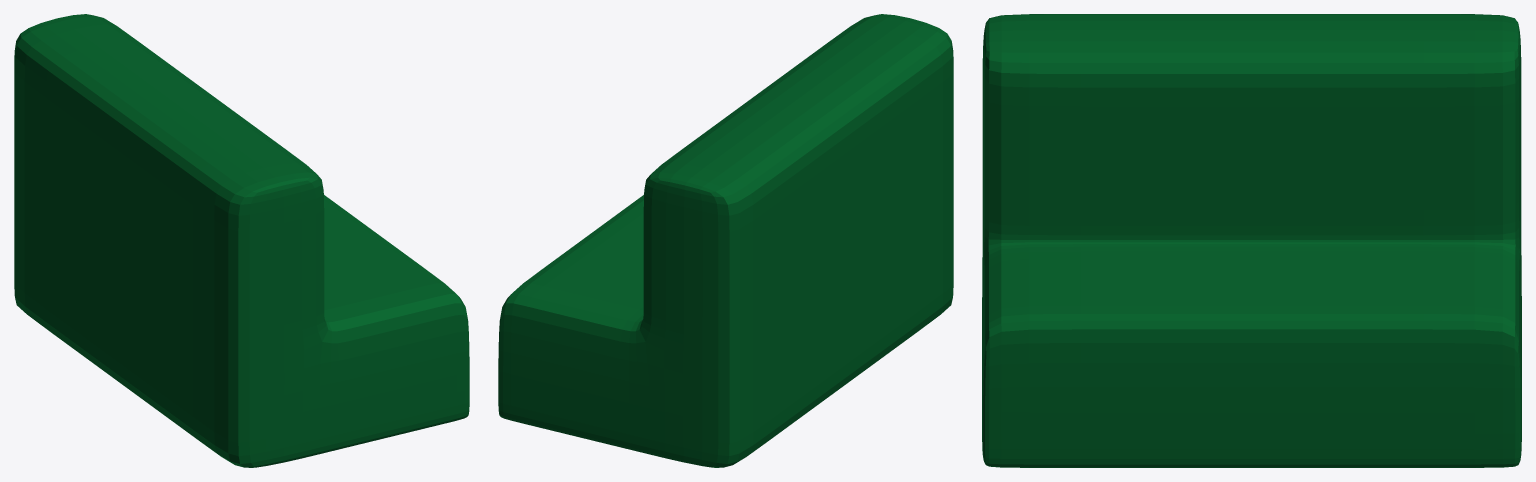
The model's file is Bench.fbx.
3 views of the same model, side by side, from view 1: azimuth 30°, elevation 25°; view 2: azimuth 150°, elevation 25°; view 3: azimuth 270°, elevation 25° (orthographic). The views are drawn at different scales.
Parts seen in each view (by area): view 1: Bench3; view 2: Bench3; view 3: Bench3.
Part boxes in pixels (box(x1,y1,x2,y2)): Bench3: box(14, 14, 469, 467); Bench3: box(498, 14, 953, 467); Bench3: box(982, 14, 1521, 467).
Size of the model in its own units: 106 by 121 by 178.
